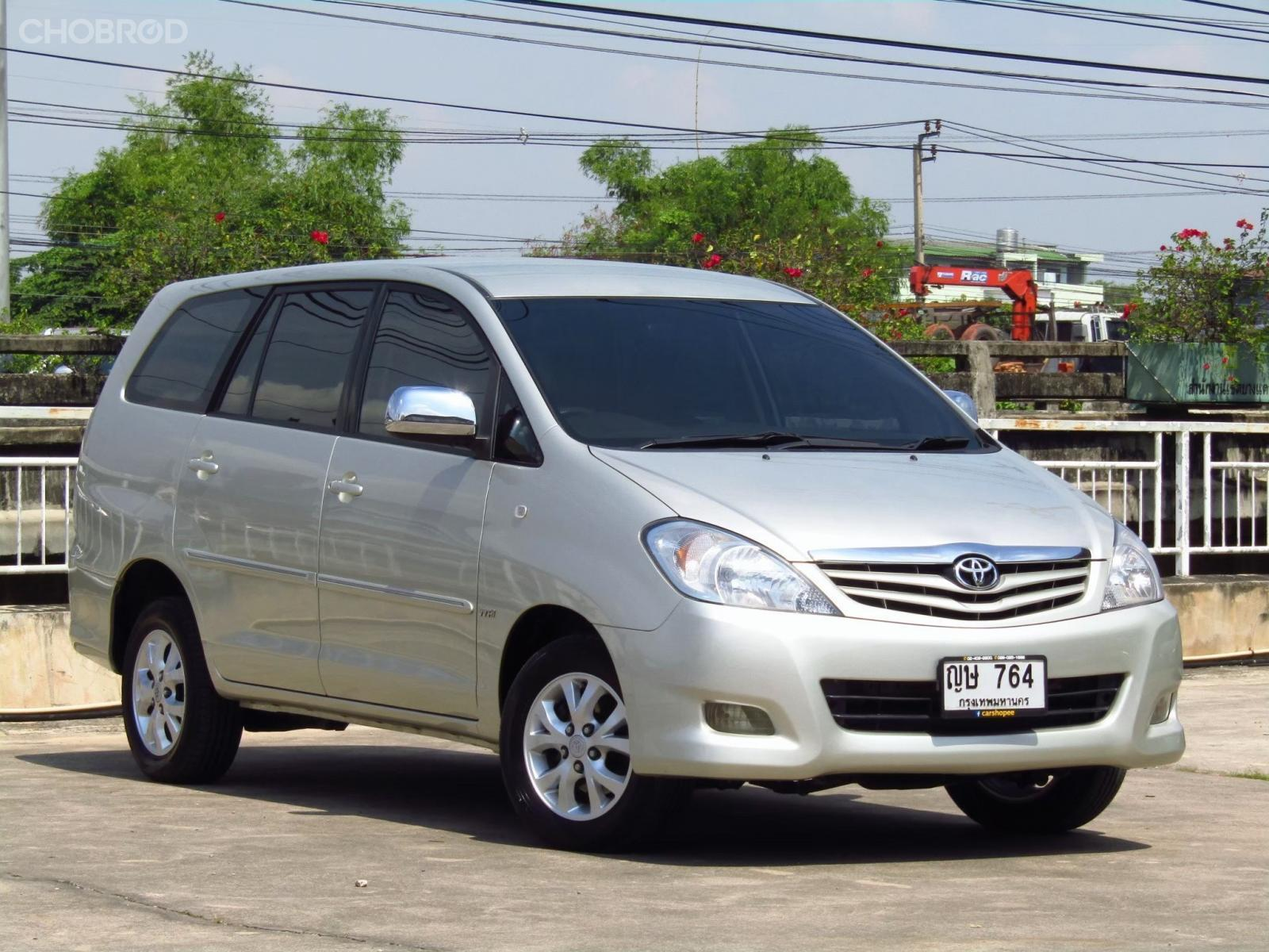license-plate: (930, 652, 1054, 725)
